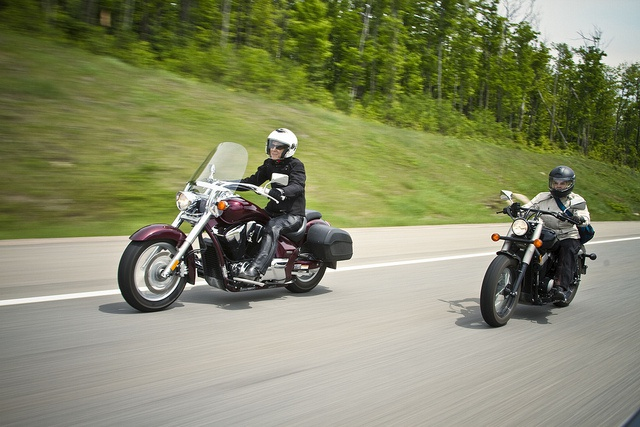non-vehicle: (116, 140, 356, 314), (480, 188, 597, 327)
